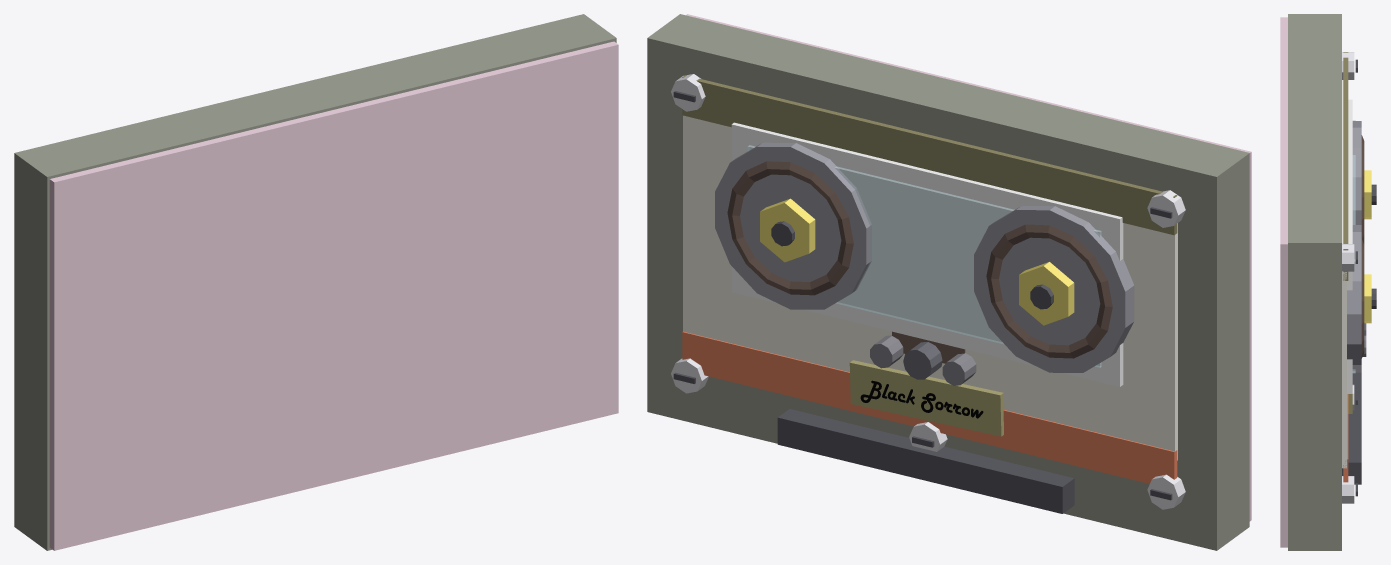
The model's file is cassetteBlackSorrow.glb.
3 views of the same model, side by side, from view 1: azimuth 30°, elevation 25°; view 2: azimuth 150°, elevation 25°; view 3: azimuth 270°, elevation 25° (orthographic). The views are drawn at different scales.
Parts seen in each view (by area): view 1: ShellBack, Shell; view 2: Shell, Label, WindowFrame, WindowGlass, StripeTop, StripeBot, Reel_L, Reel_R, TapeOpening, Plane, Tape_L, Tape_R (+11 smaller); view 3: Shell, ShellBack, Reel_R, Label, TapeOpening, StripeTop, WindowFrame, Reel_L, Tape_R, Tape_L, Hub_L, Hub_R (+5 smaller).
Boxes of the visible parts, <box> form: ShellBack: <box>49,41,618,550</box>; Shell: <box>14,14,616,550</box>; Shell: <box>647,14,1249,550</box>; Label: <box>683,115,1177,460</box>; WindowFrame: <box>731,122,1123,386</box>; WindowGlass: <box>747,145,1101,367</box>; StripeTop: <box>682,75,1177,235</box>; StripeBot: <box>682,331,1177,483</box>; Reel_L: <box>974,206,1134,372</box>; Reel_R: <box>715,142,871,309</box>; TapeOpening: <box>777,409,1074,513</box>; Plane: <box>849,360,1004,436</box>; Tape_L: <box>986,224,1112,358</box>; Tape_R: <box>727,161,853,295</box>; Shell: <box>1288,14,1341,550</box>; ShellBack: <box>1280,17,1287,547</box>; Reel_R: <box>1347,225,1361,372</box>; Label: <box>1342,80,1346,468</box>; TapeOpening: <box>1342,372,1361,484</box>; StripeTop: <box>1343,52,1348,280</box>; WindowFrame: <box>1347,99,1352,393</box>; Reel_L: <box>1352,121,1361,224</box>; Tape_R: <box>1361,239,1364,358</box>; Tape_L: <box>1361,135,1364,244</box>; Hub_L: <box>1364,170,1371,219</box>; Hub_R: <box>1364,274,1371,323</box>.
Size of the model in its own units: 2.2 by 1.38 by 0.39.
